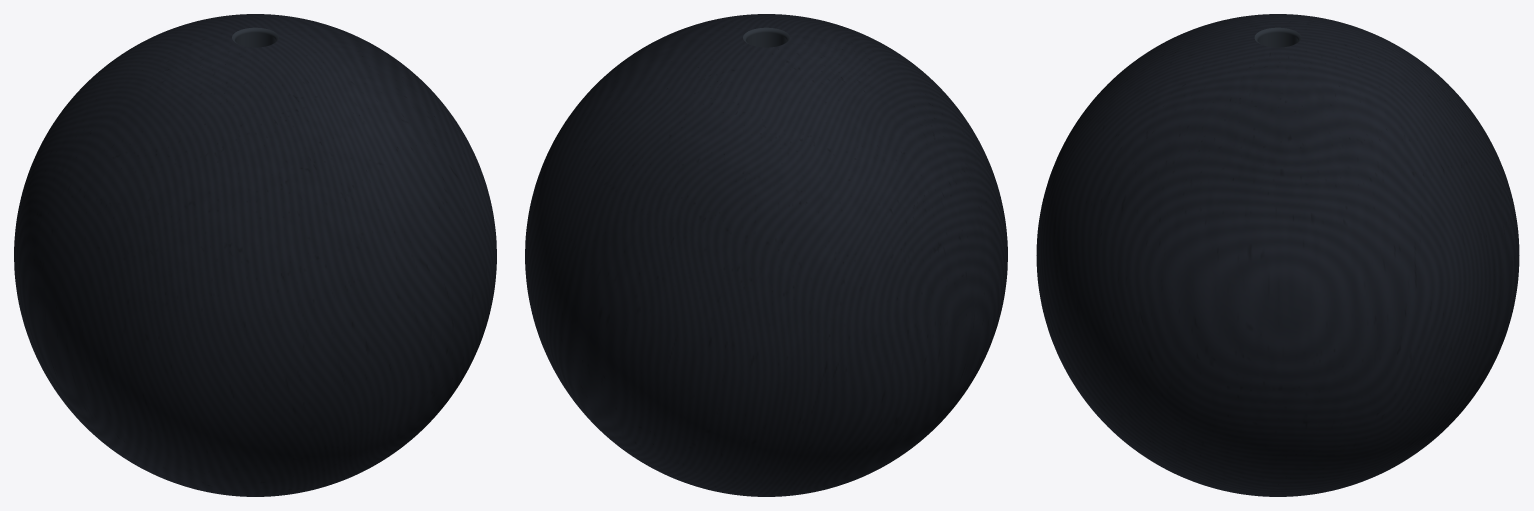
File: wood-african-blackwood-12mm.glb
3 views of the same model, side by side, from view 1: azimuth 30°, elevation 25°; view 2: azimuth 150°, elevation 25°; view 3: azimuth 270°, elevation 25° (orthographic).
Parts seen in each view (by area): view 1: african-blackwood; view 2: african-blackwood; view 3: african-blackwood.
Boxes of the visible parts, x1,y1,x2,y2 form: african-blackwood: (14, 14, 496, 496); african-blackwood: (525, 14, 1007, 496); african-blackwood: (1036, 14, 1519, 496).
Bounding box in the file's own units: 0.012 × 0.0119 × 0.012.
2 materials, 1 textured.
